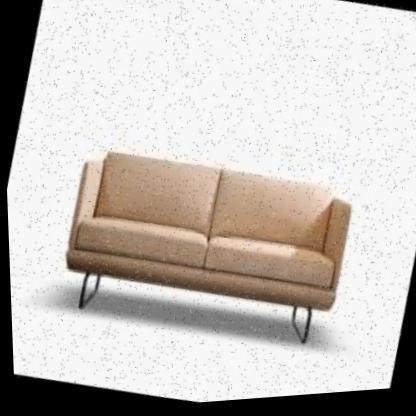Sofa: (34, 102, 376, 385)
